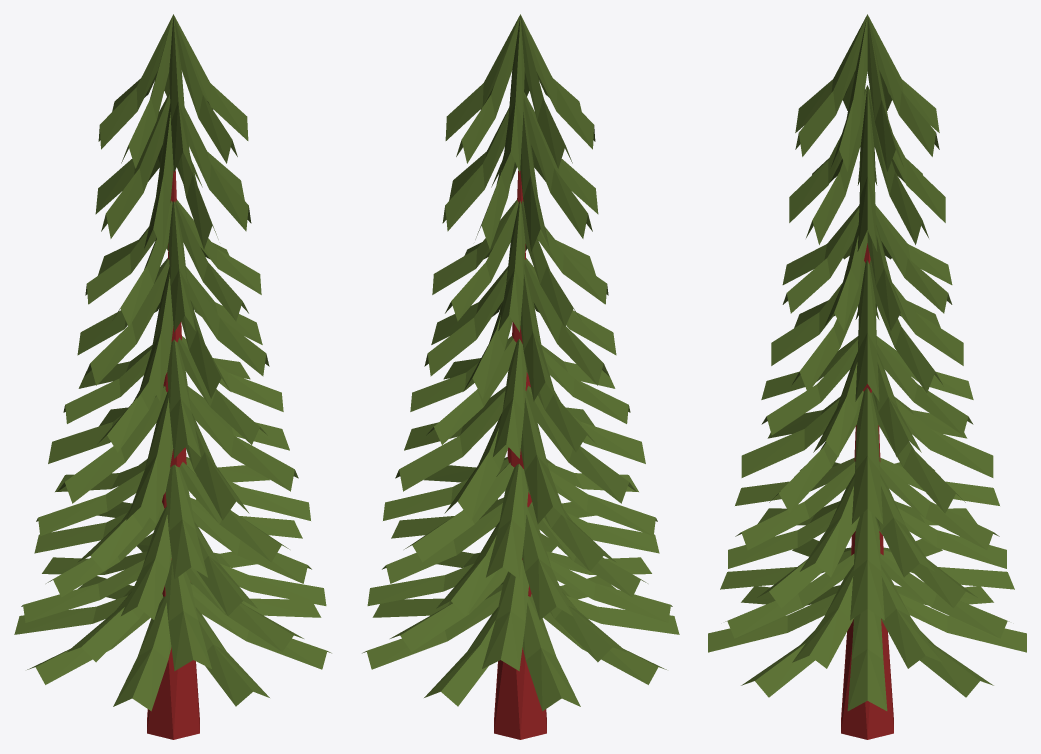
Rendered from needle_pine_small.fbx.
The picture shows the model from 3 angles, left to right: view 1: azimuth 30°, elevation 25°; view 2: azimuth 150°, elevation 25°; view 3: azimuth 270°, elevation 25°; orthographic projection.
Parts seen in each view (by area): view 1: G-Object.006, G-Object.008, G-Object.007, G-Object.009, G-Object.004, G-Object.011, G-Object.002, G-Object.003, G-Object.010, G-Object.005, G-Object.001; view 2: G-Object.006, G-Object.008, G-Object.007, G-Object.009, G-Object.004, G-Object.011, G-Object.002, G-Object.003, G-Object.010, G-Object.005, G-Object.001; view 3: G-Object.008, G-Object.006, G-Object.007, G-Object.009, G-Object.004, G-Object.002, G-Object.003, G-Object.011, G-Object.005, G-Object.010, G-Object.001.
Part boxes in pixels (<box>): G-Object.006: <box>48,385,298,523</box>; G-Object.008: <box>21,533,326,671</box>; G-Object.007: <box>14,576,331,711</box>; G-Object.009: <box>36,457,310,579</box>; G-Object.004: <box>34,497,311,619</box>; G-Object.011: <box>77,258,269,401</box>; G-Object.002: <box>63,336,283,458</box>; G-Object.003: <box>98,14,248,172</box>; G-Object.010: <box>95,92,251,251</box>; G-Object.005: <box>85,200,261,332</box>; G-Object.001: <box>147,170,199,739</box>; G-Object.006: <box>395,385,645,523</box>; G-Object.008: <box>367,533,672,671</box>; G-Object.007: <box>362,576,679,711</box>; G-Object.009: <box>383,457,657,579</box>; G-Object.004: <box>382,497,659,619</box>; G-Object.011: <box>424,258,616,401</box>; G-Object.002: <box>410,336,630,458</box>; G-Object.003: <box>445,14,595,172</box>; G-Object.010: <box>442,92,598,251</box>; G-Object.005: <box>432,199,608,332</box>; G-Object.001: <box>494,170,546,739</box>; G-Object.008: <box>720,539,1014,668</box>; G-Object.006: <box>741,387,993,524</box>; G-Object.007: <box>708,585,1026,710</box>; G-Object.009: <box>735,457,999,577</box>; G-Object.004: <box>728,501,1006,620</box>; G-Object.002: <box>761,336,973,456</box>; G-Object.003: <box>795,14,939,171</box>; G-Object.011: <box>771,260,963,401</box>; G-Object.005: <box>782,205,952,330</box>; G-Object.010: <box>789,85,945,251</box>; G-Object.001: <box>841,243,893,739</box>.
Bounding box in the file's own units: 420 × 1037 × 420.
